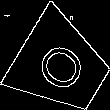O_SE: (30, 34, 93, 98)
